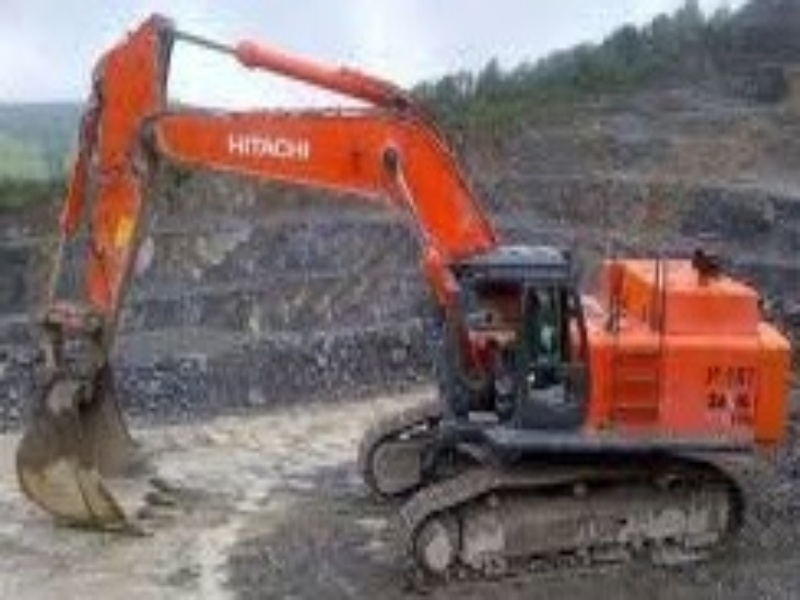wajueji: (314, 214, 800, 595)
